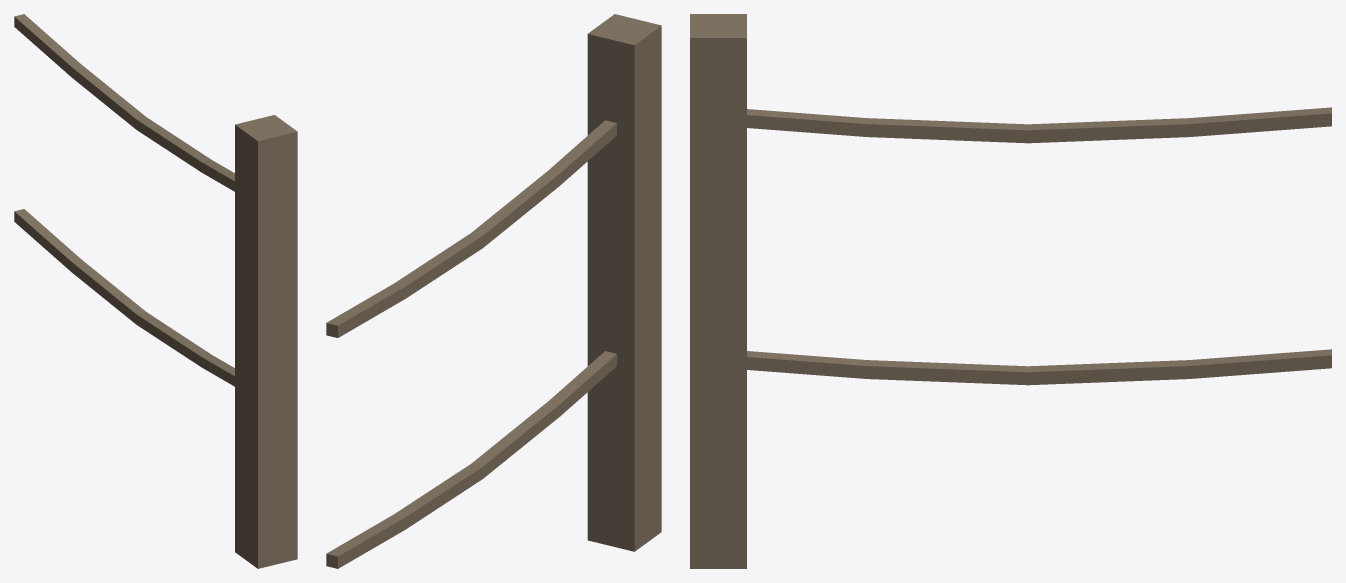
The model's file is Fence.fbx.
The picture shows the model from 3 angles, left to right: view 1: azimuth 30°, elevation 25°; view 2: azimuth 150°, elevation 25°; view 3: azimuth 270°, elevation 25°; orthographic projection. The views are drawn at different scales.
Parts seen in each view (by area): view 1: Cube.004; view 2: Cube.004; view 3: Cube.004.
Boxes of the visible parts, left/top/right/bottom form: Cube.004: left=14, top=14, right=297, bottom=568; Cube.004: left=326, top=14, right=661, bottom=568; Cube.004: left=690, top=14, right=1331, bottom=568.
Bounding box in the file's own units: 7.91 × 81.39 × 89.18.
